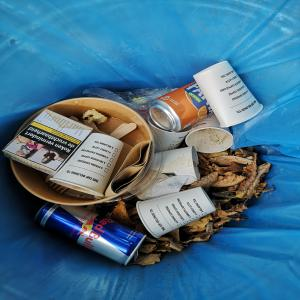Can: (34, 202, 149, 267), (148, 83, 209, 133)
Cup: (192, 61, 267, 130), (131, 188, 228, 241), (50, 133, 126, 198), (157, 146, 204, 184), (186, 126, 236, 155)
Trash: (1, 110, 94, 177)
